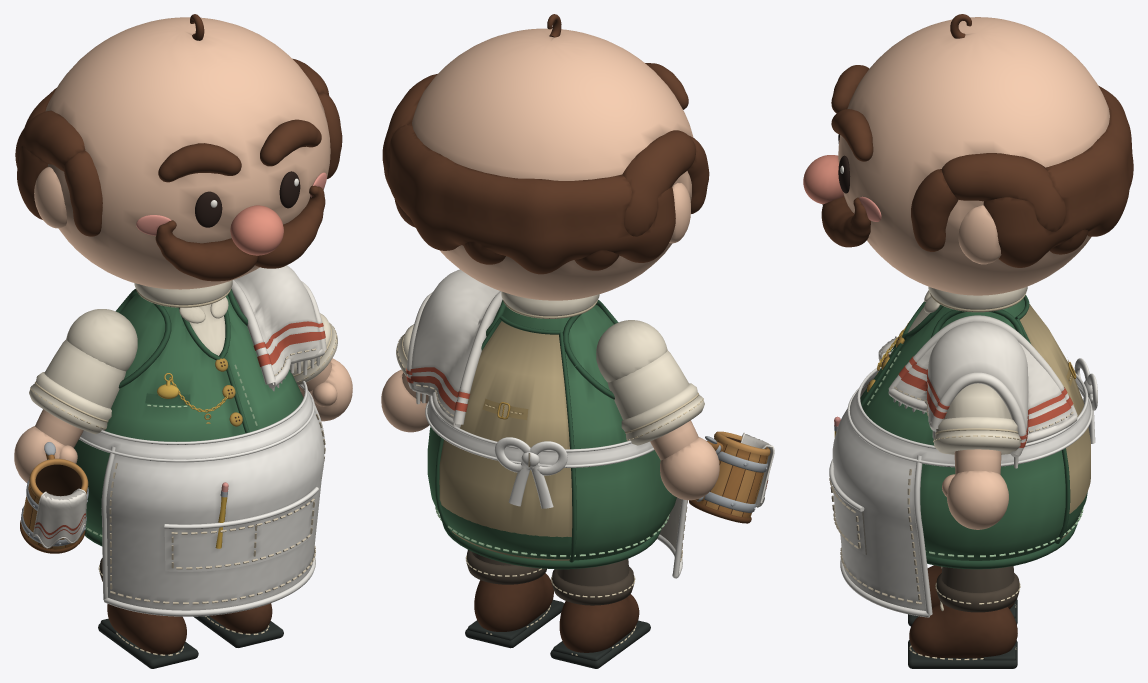
File: innkeeper.glb
3 views of the same model, side by side, from view 1: azimuth 30°, elevation 25°; view 2: azimuth 150°, elevation 25°; view 3: azimuth 270°, elevation 25° (orthographic).
Visible parts, largest first — view 1: body, head, arm_r, mug, leg_r, arm_l, leg_l; view 2: head, body, arm_r, leg_r, leg_l, mug, arm_l; view 3: head, body, leg_l, arm_l, leg_r.
Boxes of the visible parts, bbox=[...] form: body: bbox=[74, 265, 326, 616]; head: bbox=[15, 14, 342, 289]; arm_r: bbox=[14, 309, 137, 482]; mug: bbox=[20, 442, 88, 553]; leg_r: bbox=[98, 558, 198, 668]; arm_l: bbox=[289, 313, 352, 421]; leg_l: bbox=[193, 603, 283, 647]; head: bbox=[382, 14, 709, 300]; body: bbox=[406, 269, 687, 578]; arm_r: bbox=[596, 320, 719, 500]; leg_r: bbox=[550, 559, 650, 668]; leg_l: bbox=[465, 550, 564, 648]; mug: bbox=[689, 431, 774, 523]; arm_l: bbox=[381, 324, 429, 432]; head: bbox=[803, 14, 1133, 295]; body: bbox=[829, 286, 1097, 617]; leg_l: bbox=[908, 566, 1020, 668]; arm_l: bbox=[933, 383, 1021, 529]; leg_r: bbox=[908, 565, 1017, 626].
Bounding box in the file's own units: 0.8599 × 1.46 × 0.6972.
